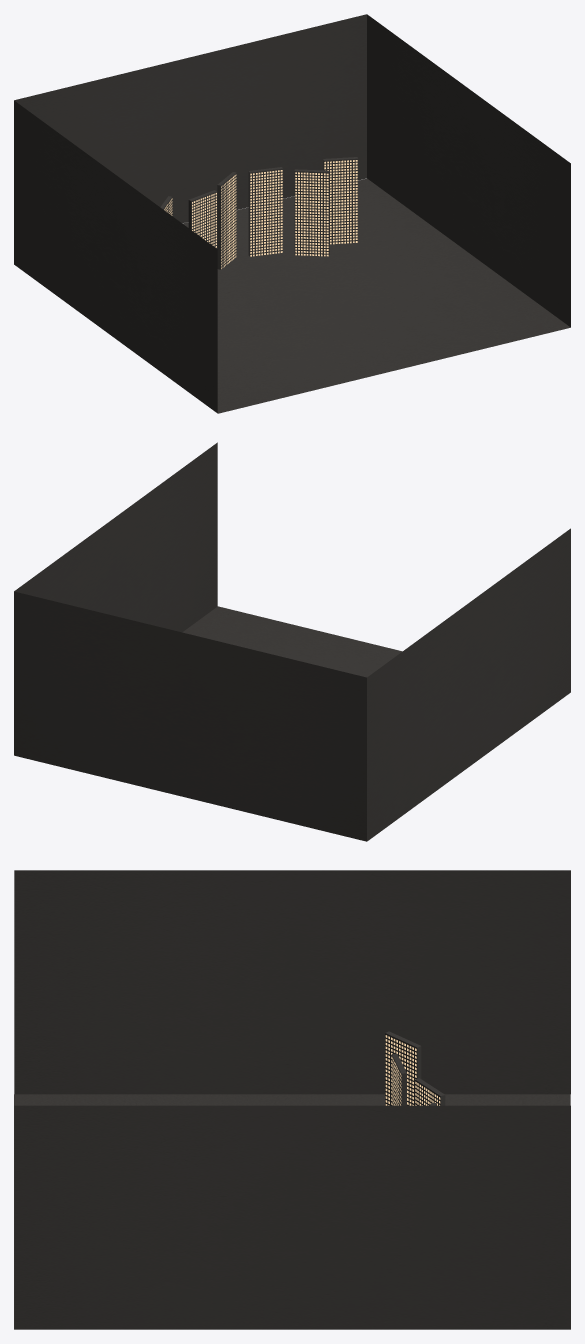
File: 컨피규레이터.gltf
3 views of the same model, one above another, from view 1: azimuth 30°, elevation 25°; view 2: azimuth 150°, elevation 25°; view 3: azimuth 270°, elevation 25° (orthographic). The views are drawn at different scales.
Parts seen in each view (by area): view 1: Assembly-2, Assembly-4, Assembly-6, Assembly-8, Assembly-20, Assembly-25, Assembly-15, Assembly-22, Assembly-27, Assembly-39, Assembly-17, Assembly-30 (+2 smaller); view 2: Assembly-4, Assembly-6, Assembly-8, Assembly-2; view 3: Assembly-8, Assembly-6, Assembly-2, Assembly-35, Assembly-37, Assembly-30.
Boxes of the visible parts, x1,y1,x2,y2 form: Assembly-2: [182, 178, 570, 413]; Assembly-4: [14, 14, 366, 223]; Assembly-6: [14, 100, 217, 413]; Assembly-8: [367, 14, 570, 327]; Assembly-20: [294, 169, 329, 256]; Assembly-25: [248, 167, 282, 256]; Assembly-15: [323, 157, 357, 244]; Assembly-22: [295, 172, 328, 256]; Assembly-27: [250, 170, 282, 256]; Assembly-39: [217, 172, 236, 269]; Assembly-17: [324, 160, 357, 244]; Assembly-30: [188, 190, 217, 248]; Assembly-4: [14, 591, 366, 841]; Assembly-6: [367, 528, 570, 841]; Assembly-8: [14, 442, 217, 632]; Assembly-2: [182, 606, 402, 677]; Assembly-8: [14, 1105, 570, 1329]; Assembly-6: [14, 870, 570, 1094]; Assembly-2: [14, 1094, 570, 1329]; Assembly-35: [385, 1031, 421, 1105]; Assembly-37: [385, 1035, 416, 1105]; Assembly-30: [391, 1053, 406, 1105].
Size of the model in its own units: 45 by 20 by 45.04.
Materials: 4 (1 with a texture image).
